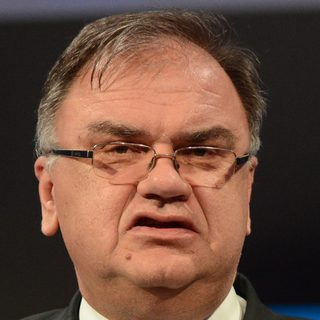eye: (98, 136, 144, 162), (180, 139, 220, 166)
